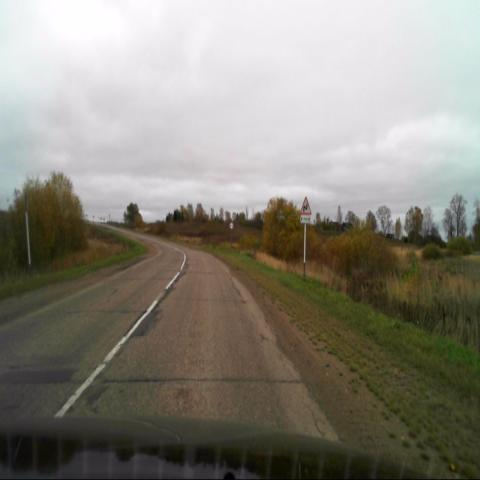1_12: (300, 196, 312, 215)
